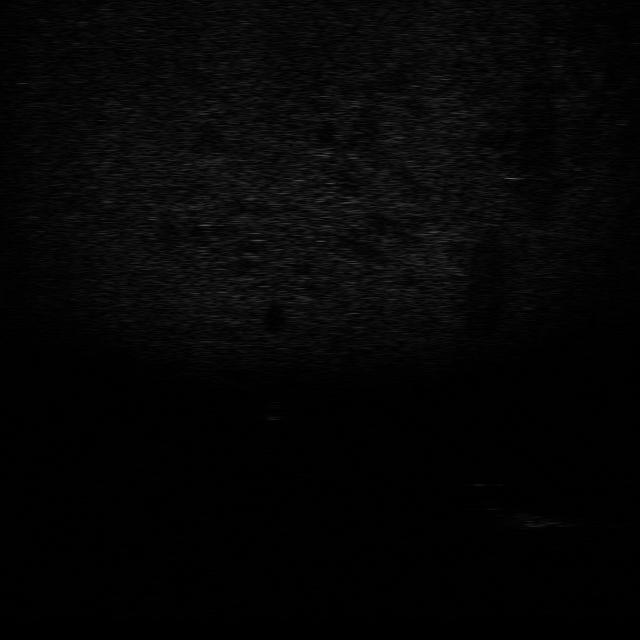ball: (258, 401, 292, 422)
metal bucket: (508, 508, 574, 531)
tyre: (466, 479, 509, 514)
